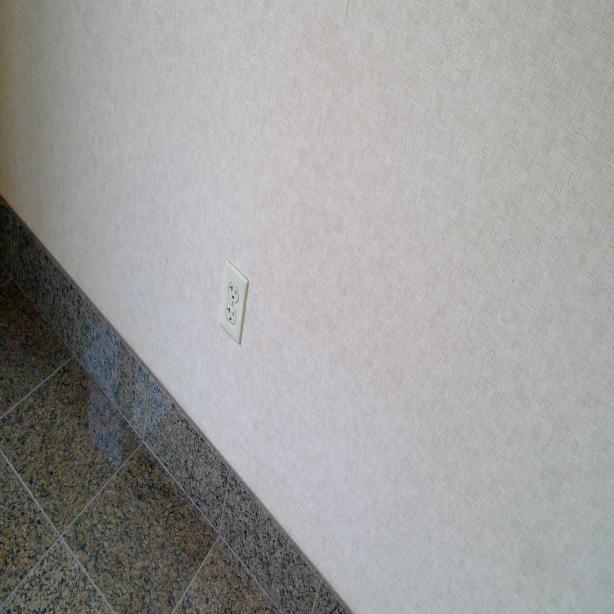typeb: (228, 281, 240, 303), (226, 304, 236, 326)
